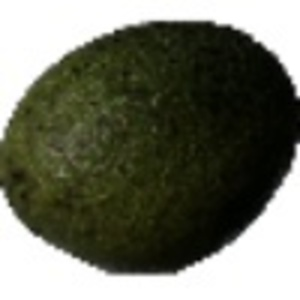abacate: (8, 19, 299, 275)
